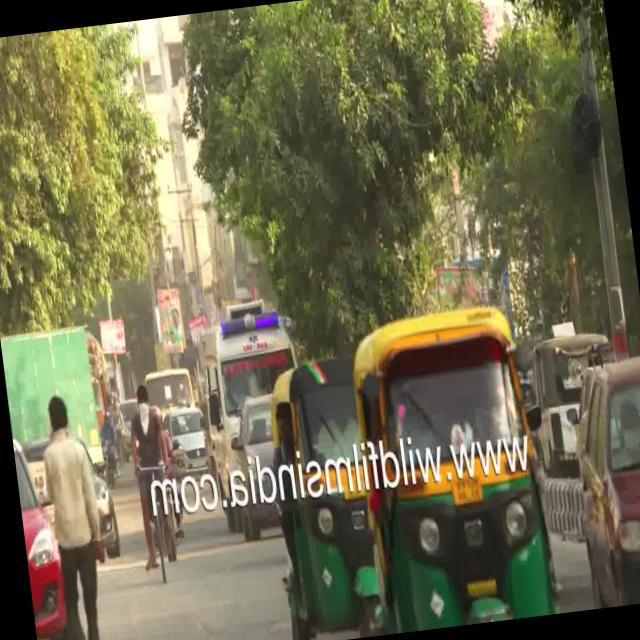ambulance: (191, 287, 292, 392)
